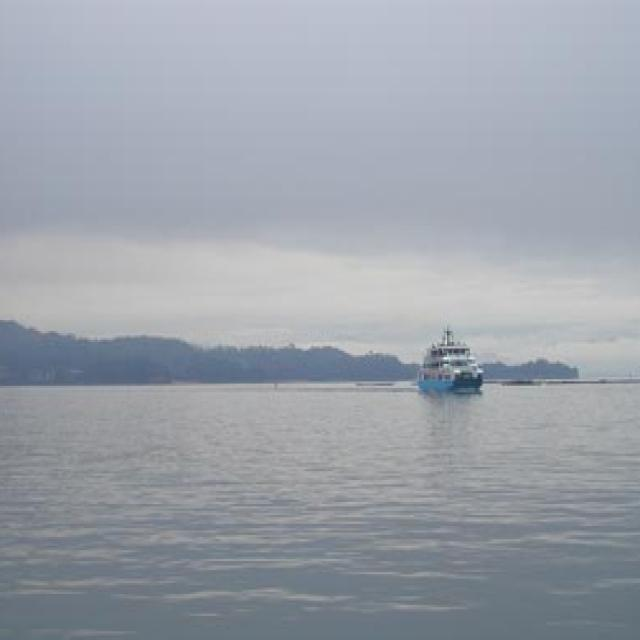passenger ship: (417, 334, 489, 394)
